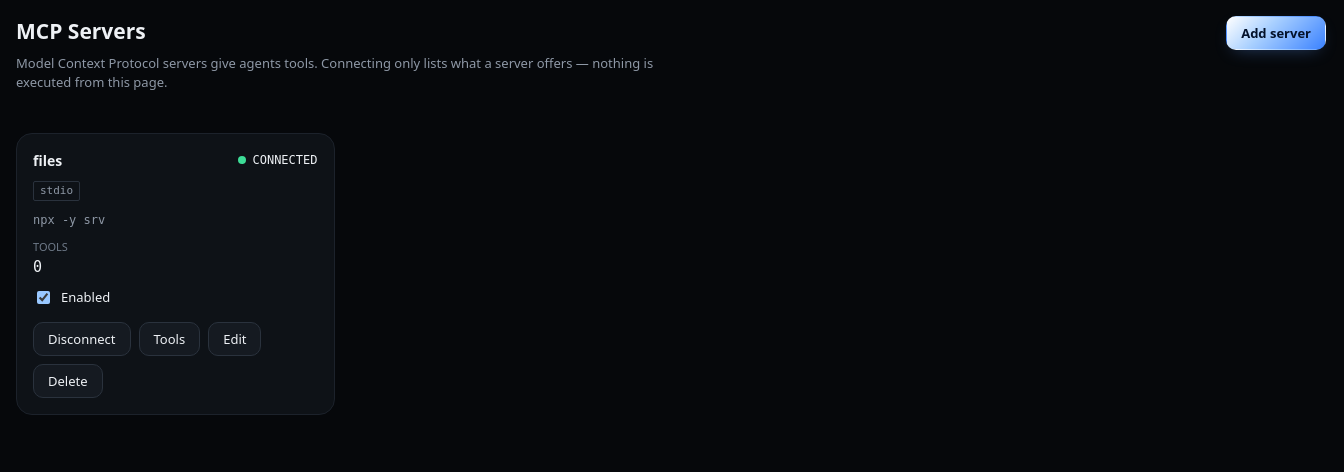
Test: McpPage › Tools is only available while connected; a tools error is shown in the panel
This screenshot has width=1344, height=472.
Expected: the element with test id "mcp-card-files" is shown, x1=16 y1=132 x2=334 y2=414
Click the button "Tools". click: (169, 338)
box: x1=138 y1=322 x2=200 y2=356
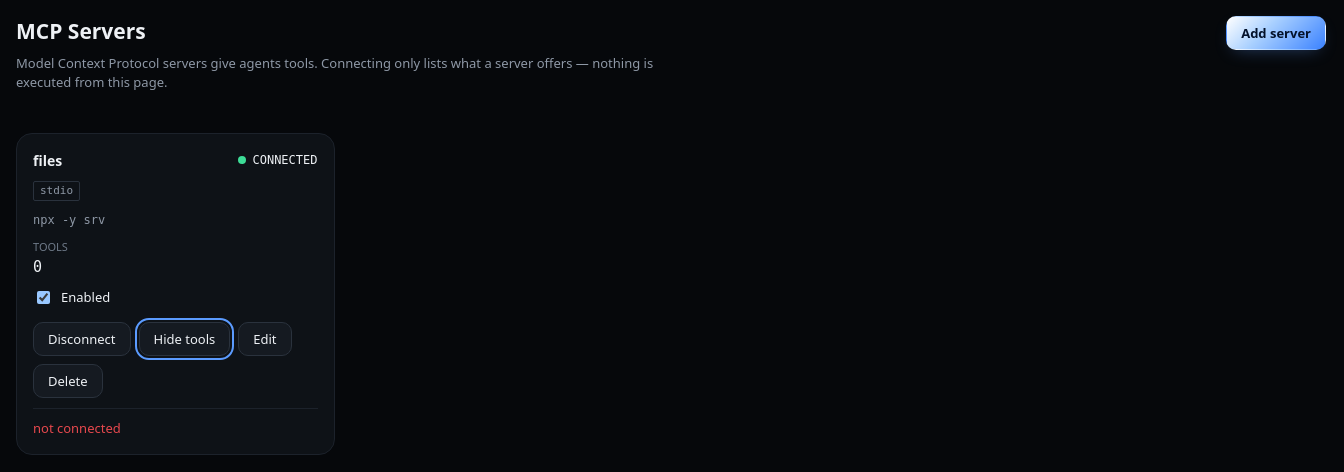
Expected: the text "not connected" is shown, x1=33 y1=418 x2=121 y2=436
